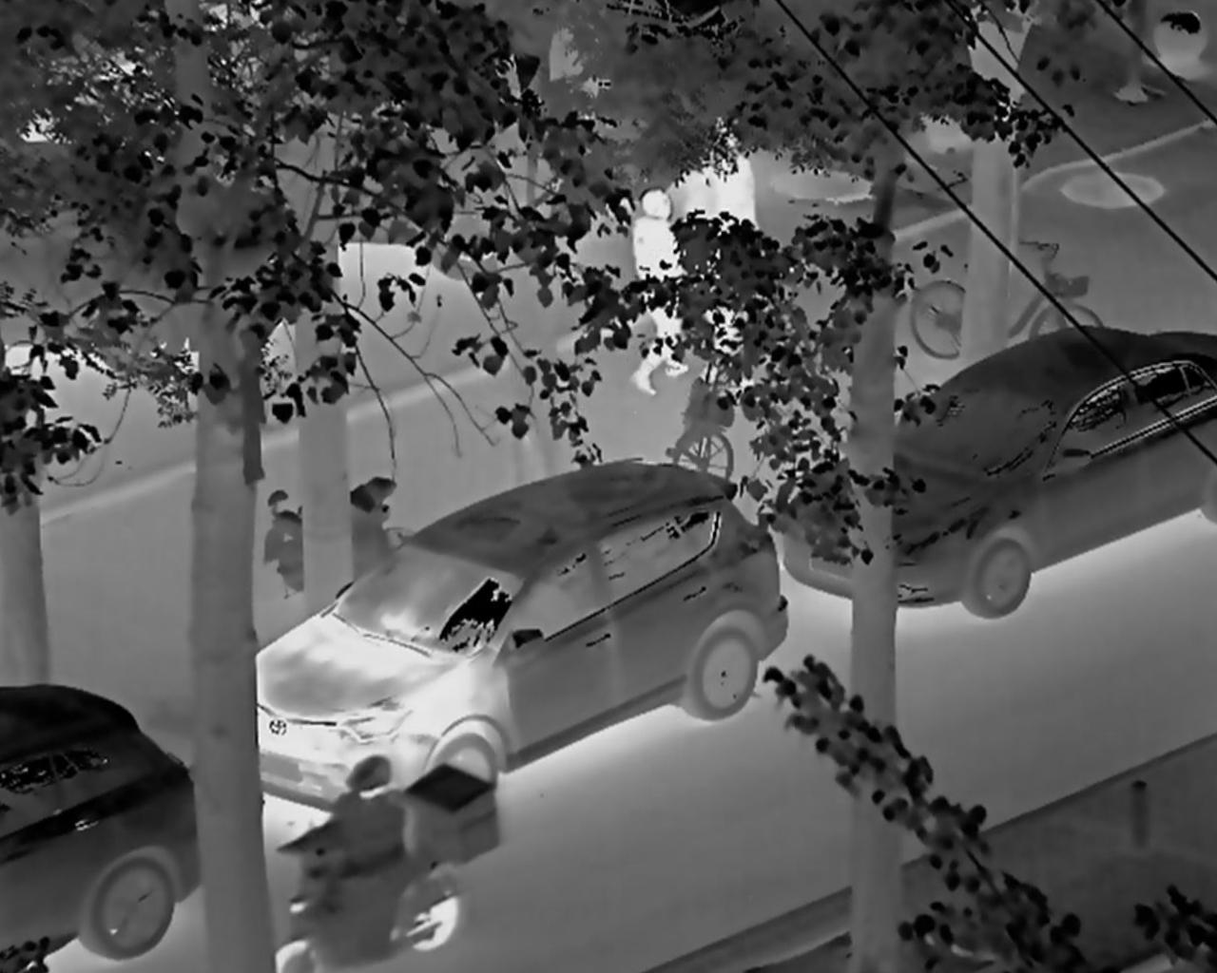person: (298, 748, 421, 960), (619, 181, 697, 396)
